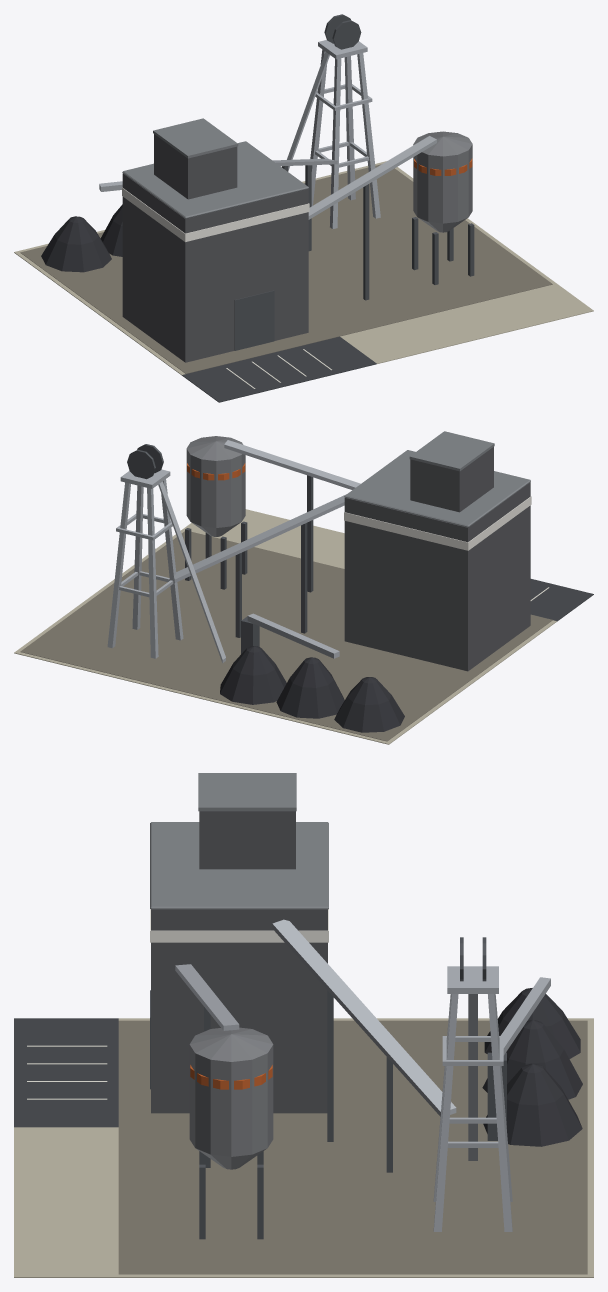
Rendered from coalmine.glb.
3 renders of one model, top to bottom at view 1: azimuth 30°, elevation 25°; view 2: azimuth 150°, elevation 25°; view 3: azimuth 270°, elevation 25°, orthographic. The views are drawn at different scales.
Parts seen in each view (by area): view 1: coalmine; view 2: coalmine; view 3: coalmine.
Part boxes in pixels (x1,y1,x2,y2): coalmine: [14, 14, 593, 402]; coalmine: [14, 431, 593, 744]; coalmine: [14, 773, 593, 1277].
Bounding box in the file's own units: 38 × 18.93 × 36.
